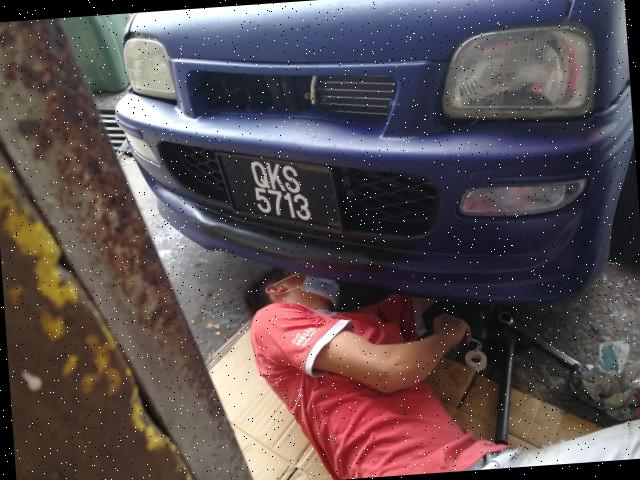License_Plate: (216, 146, 344, 244)
car: (112, 1, 640, 331)
